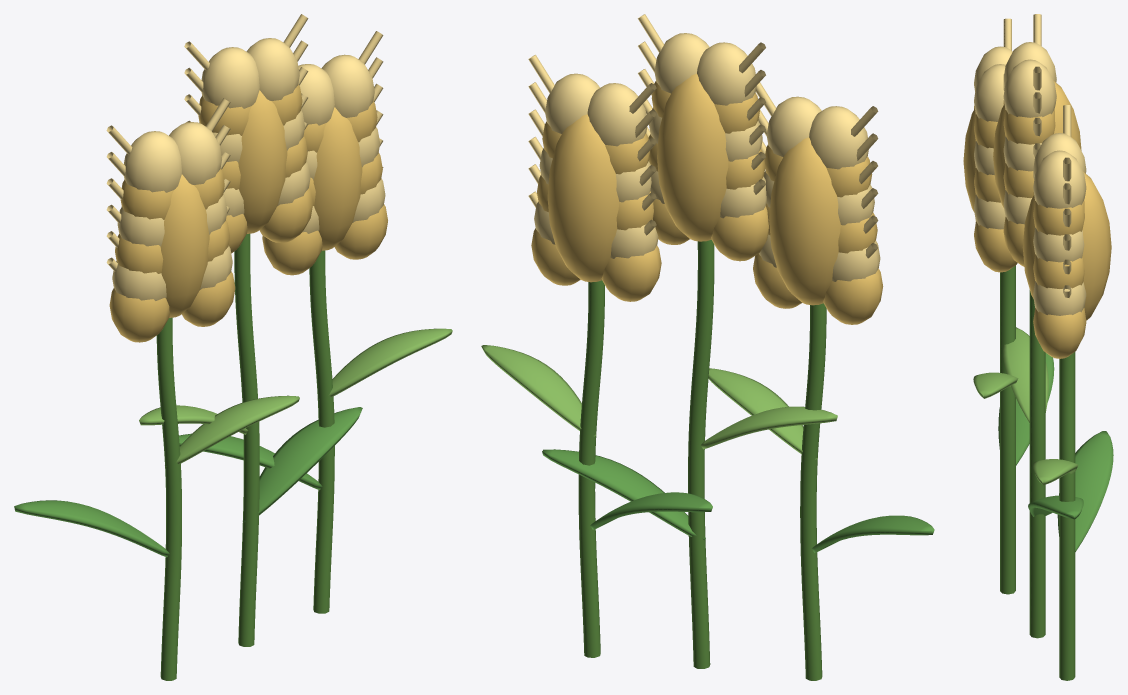
Rendered from wheat.glb.
The picture shows the model from 3 angles, left to right: view 1: azimuth 30°, elevation 25°; view 2: azimuth 150°, elevation 25°; view 3: azimuth 270°, elevation 25°; orthographic projection. The views are drawn at different scales.
Visible parts, largest first — view 1: Wheat | slender stalk.005, Wheat | slender stalk.003, Wheat | slender stalk.004, Wheat | central ear.005, Wheat | central ear.003, Wheat | central ear.004, Wheat | narrow blade.011, Wheat | plump grain.045, Wheat | plump grain.041, Wheat | narrow blade.006, Wheat | narrow blade.009, Wheat | narrow blade.007 (+22 smaller); view 2: Wheat | central ear.004, Wheat | central ear.005, Wheat | central ear.003, Wheat | slender stalk.005, Wheat | slender stalk.004, Wheat | slender stalk.003, Wheat | narrow blade.006, Wheat | narrow blade.011, Wheat | plump grain.059, Wheat | plump grain.041, Wheat | plump grain.045, Wheat | narrow blade.009 (+24 smaller); view 3: Wheat | slender stalk.004, Wheat | slender stalk.005, Wheat | slender stalk.003, Wheat | central ear.003, Wheat | narrow blade.010, Wheat | plump grain.038, Wheat | plump grain.055, Wheat | plump grain.052, Wheat | narrow blade.008, Wheat | central ear.005, Wheat | plump grain.048, Wheat | plump grain.049 (+24 smaller).
Boxes of the visible parts, x1,y1,x2,y2 form: Wheat | slender stalk.005: (234, 233, 259, 646); Wheat | slender stalk.003: (156, 317, 181, 680); Wheat | slender stalk.004: (309, 250, 334, 613); Wheat | central ear.005: (238, 90, 287, 233); Wheat | central ear.003: (313, 107, 362, 250); Wheat | central ear.004: (160, 174, 209, 317); Wheat | narrow blade.011: (242, 407, 362, 522); Wheat | plump grain.045: (124, 131, 181, 192); Wheat | plump grain.041: (201, 47, 259, 108); Wheat | narrow blade.006: (317, 328, 452, 399); Wheat | narrow blade.009: (165, 395, 299, 466); Wheat | narrow blade.007: (14, 500, 169, 557); Wheat | central ear.004: (769, 137, 840, 305); Wheat | central ear.005: (657, 73, 728, 241); Wheat | central ear.003: (547, 114, 619, 282); Wheat | slender stalk.005: (688, 239, 714, 668); Wheat | slender stalk.004: (578, 280, 604, 657); Wheat | slender stalk.003: (800, 303, 826, 680); Wheat | narrow blade.006: (481, 345, 596, 436); Wheat | narrow blade.011: (542, 449, 705, 539); Wheat | plump grain.059: (587, 83, 647, 146); Wheat | plump grain.041: (697, 42, 756, 105); Wheat | plump grain.045: (809, 106, 868, 169); Wheat | narrow blade.009: (708, 368, 817, 459); Wheat | slender stalk.004: (1059, 352, 1075, 680); Wheat | slender stalk.005: (1029, 290, 1045, 638); Wheat | slender stalk.003: (1000, 265, 1015, 594); Wheat | central ear.003: (1022, 171, 1111, 320); Wheat | narrow blade.010: (1057, 431, 1113, 551); Wheat | plump grain.038: (1003, 59, 1056, 117); Wheat | plump grain.055: (1033, 150, 1086, 208); Wheat | plump grain.052: (1033, 308, 1086, 358); Wheat | narrow blade.008: (1003, 327, 1048, 422); Wheat | central ear.005: (993, 80, 1081, 207); Wheat | plump grain.048: (974, 64, 1005, 121); Wheat | plump grain.049: (974, 221, 1017, 272).
Size of the model in its own units: 1.65 by 2.21 by 0.5062.
